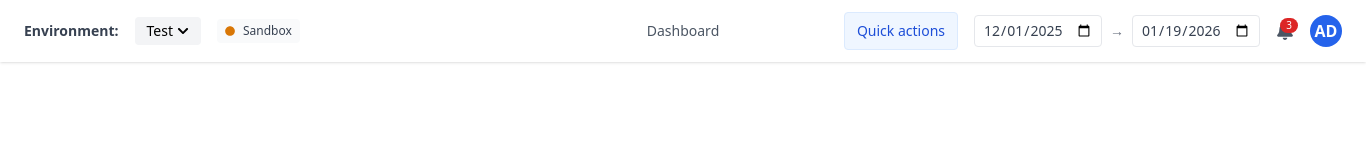
Test case: Topbar › switches environments and shows status
The image size is (1366, 160).
Click the button "Test".
click(168, 31)  # box [134,17,201,45]
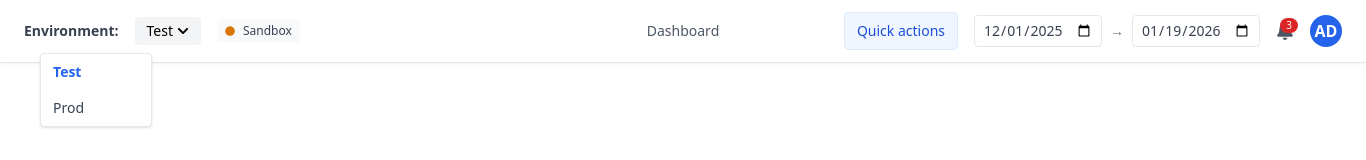
Click the menu item "Prod".
click(69, 108)  # box [53,98,84,117]
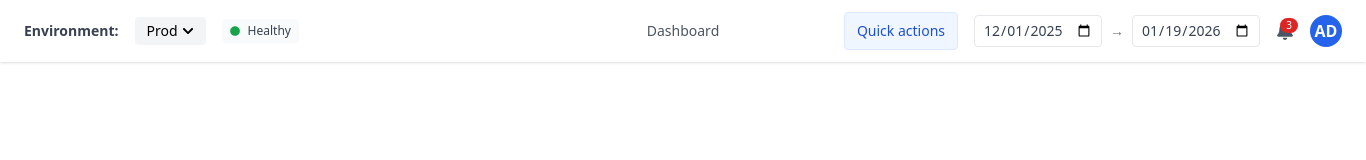
Now the text "Healthy" is shown, box [248,23,291,39]
Now the button named "Test" reads "Prod", box [134,17,206,45]
